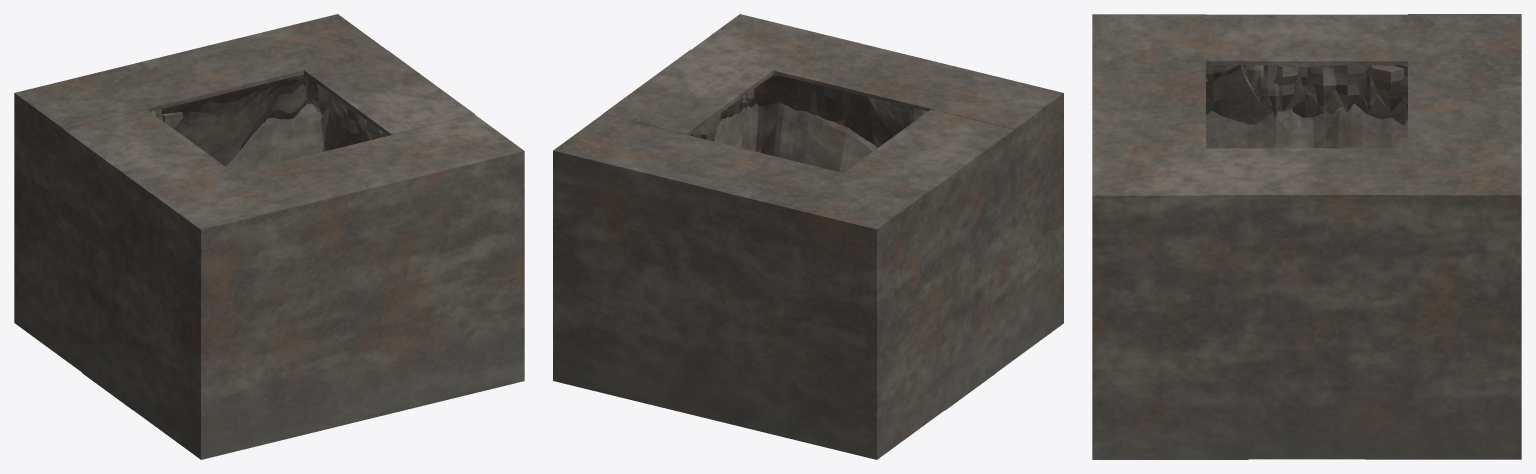
The model's file is dungeon_shaft.glb.
The picture shows the model from 3 angles, left to right: view 1: azimuth 30°, elevation 25°; view 2: azimuth 150°, elevation 25°; view 3: azimuth 270°, elevation 25°; orthographic projection. The views are drawn at different scales.
Visible parts, largest first — view 1: dungeon_shaft; view 2: dungeon_shaft; view 3: dungeon_shaft.
Part boxes in pixels (x1,y1,x2,y2): dungeon_shaft: (14, 14, 524, 459); dungeon_shaft: (553, 14, 1063, 459); dungeon_shaft: (1092, 14, 1521, 459).
Bounding box in the file's own units: 5.05 × 3.45 × 5.05.
Materials: 1 (1 with a texture image).
